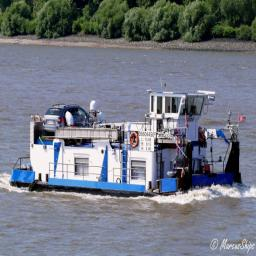tugboat: (9, 86, 249, 206)
